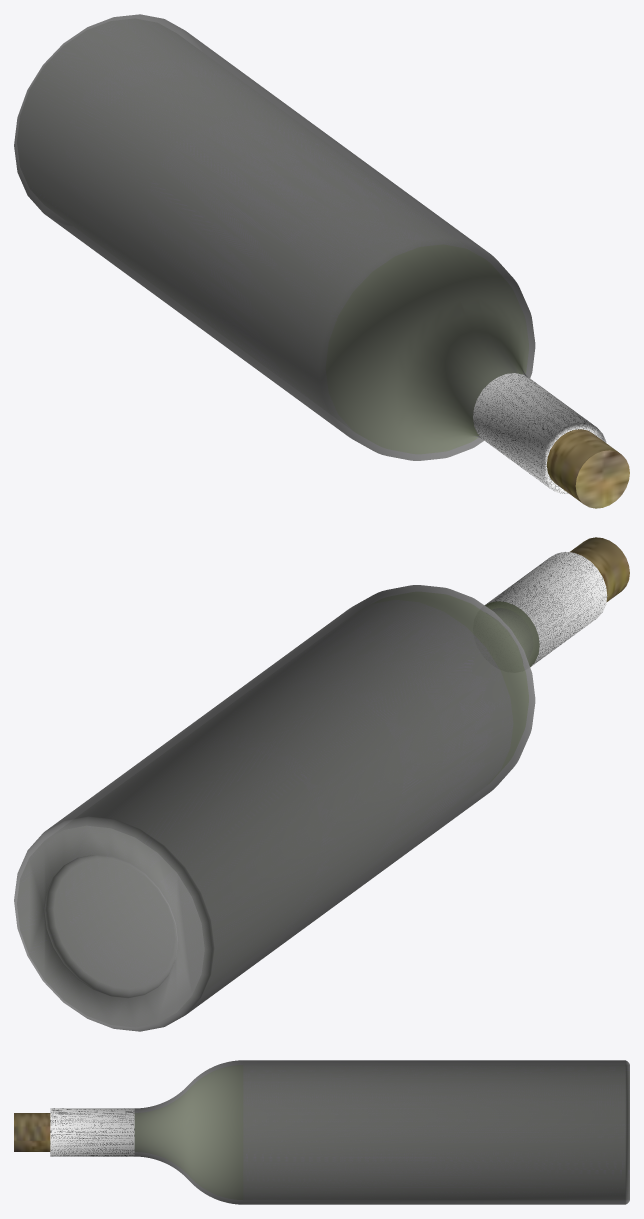
File: model_scale.obj
3 renders of one model, top to bottom at view 1: azimuth 30°, elevation 25°; view 2: azimuth 150°, elevation 25°; view 3: azimuth 270°, elevation 25°, orthographic. The views are drawn at different scales.
Visible parts, largest first — view 1: mesh1_mesh1-geometry; view 2: mesh1_mesh1-geometry; view 3: mesh1_mesh1-geometry.
Boxes of the visible parts, left/top/right/bottom form: mesh1_mesh1-geometry: left=14, top=14, right=629, bottom=508; mesh1_mesh1-geometry: left=14, top=537, right=629, bottom=1031; mesh1_mesh1-geometry: left=14, top=1060, right=629, bottom=1204.
Size of the model in its own units: 0.06 by 0.06 by 0.2549.
